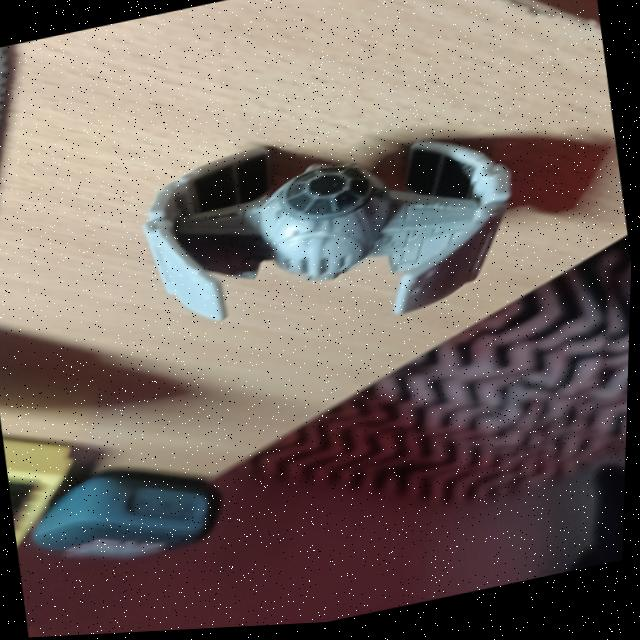tie fighter: (144, 144, 512, 322)
